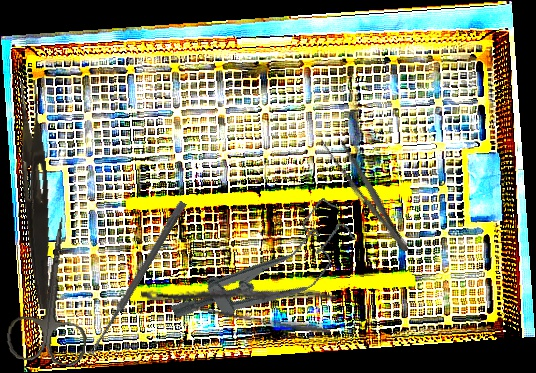Dressing Forceps: (139, 257, 338, 339), (318, 131, 416, 257), (11, 79, 61, 310)
Iris Scissors: (4, 212, 103, 368)
Speculum: (162, 193, 367, 355)
Surgical Spoon: (87, 199, 187, 358)
